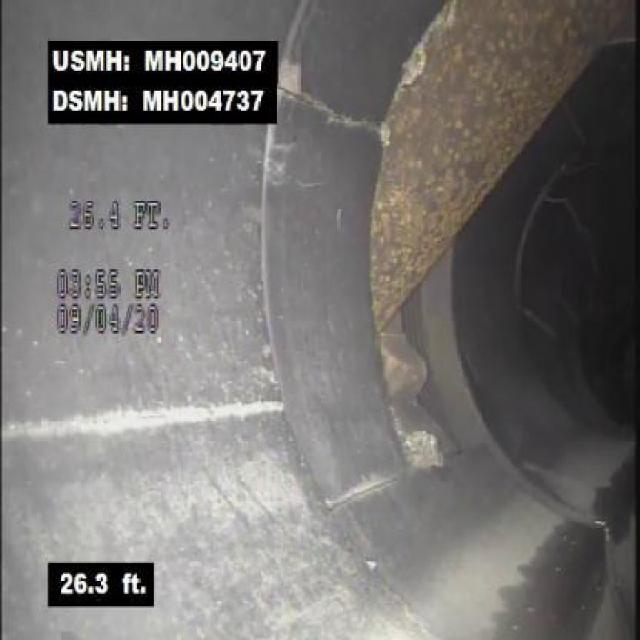Crack: (282, 80, 372, 145)
Utility intrusion: (374, 3, 532, 219)
